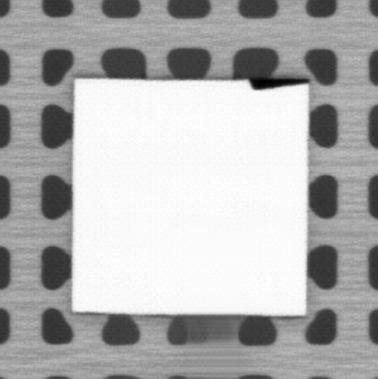DIE_BROKEN: (247, 75, 309, 91)
